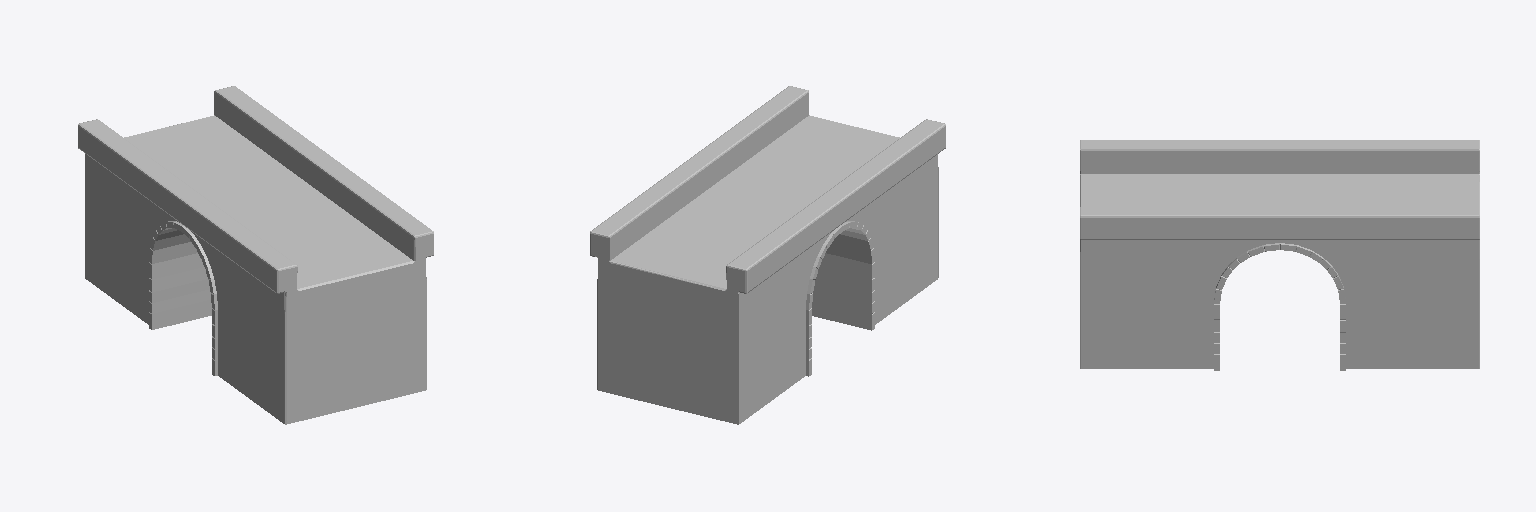
File: stone bridge.obj
3 views of the same model, side by side, from view 1: azimuth 30°, elevation 25°; view 2: azimuth 150°, elevation 25°; view 3: azimuth 270°, elevation 25° (orthographic).
Parts seen in each view (by area): view 1: bridge; view 2: bridge; view 3: bridge.
Boxes of the visible parts, x1=… form: bridge: x1=78, y1=86, x2=433, y2=424; bridge: x1=590, y1=86, x2=945, y2=424; bridge: x1=1080, y1=140, x2=1479, y2=370.
Bounding box in the file's own units: 100 × 95.09 × 220.